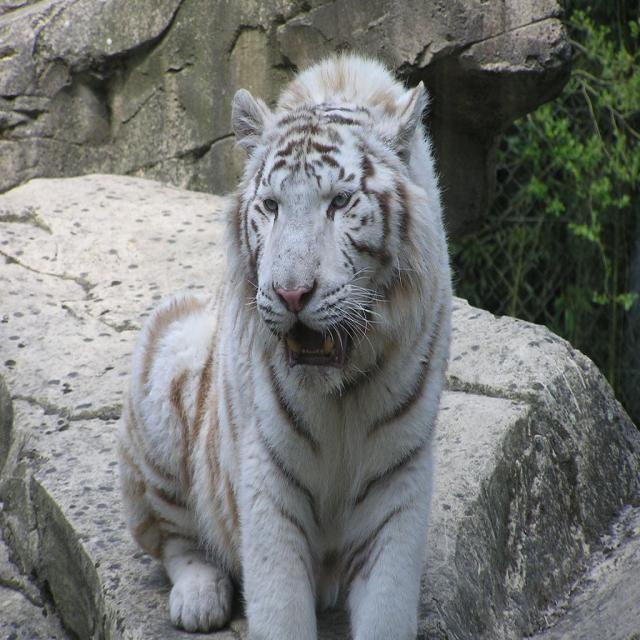Tiger: (115, 62, 456, 640)
